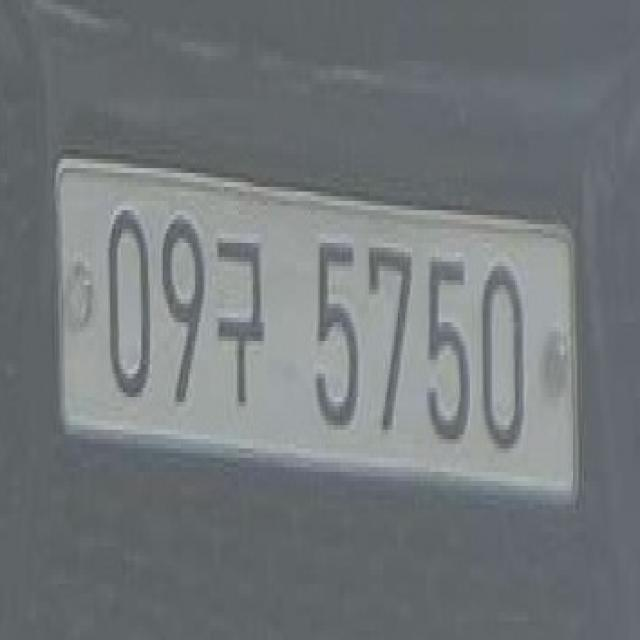0: (98, 188, 156, 416), (478, 255, 537, 468)
5: (308, 228, 362, 453), (422, 237, 472, 460)
7: (367, 242, 419, 442)
9: (158, 205, 206, 434)
gu: (213, 220, 268, 446)
license_plate: (45, 146, 589, 516)
